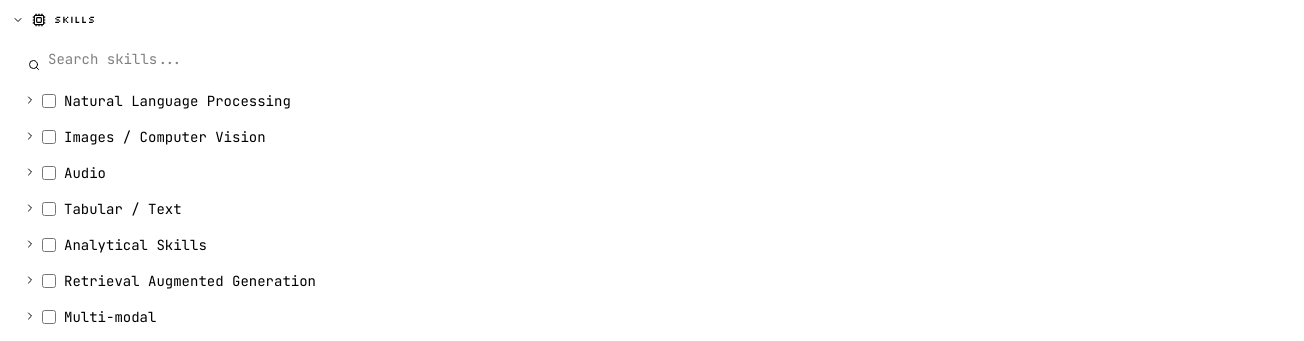
Scenario: TaxonomyFilter › search › filters categories by search query
The image size is (1304, 341).
Expected: the element with test id "taxonomy-filter-node-natural_language_processing" is shown, x1=24 y1=89 x2=291 y2=113
Search for something that won't match NLP
Type "computer vision" into the field with test id "taxonomy-filter-skill-search" at (652, 59), box x1=20 y1=43 x2=1284 y2=75
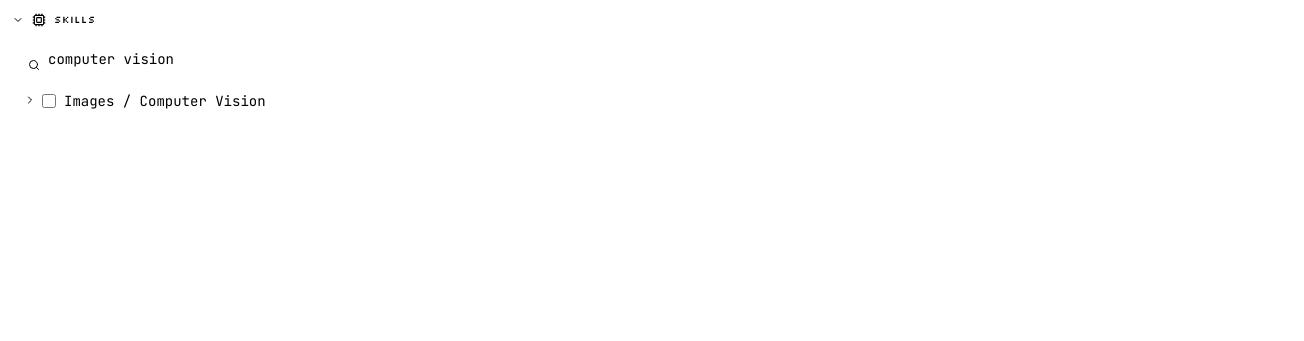
Expected: the element with test id "taxonomy-filter-node-images_computer_vision" is shown, x1=24 y1=89 x2=266 y2=113
Expected: the element with test id "taxonomy-filter-node-natural_language_processing" is gone
